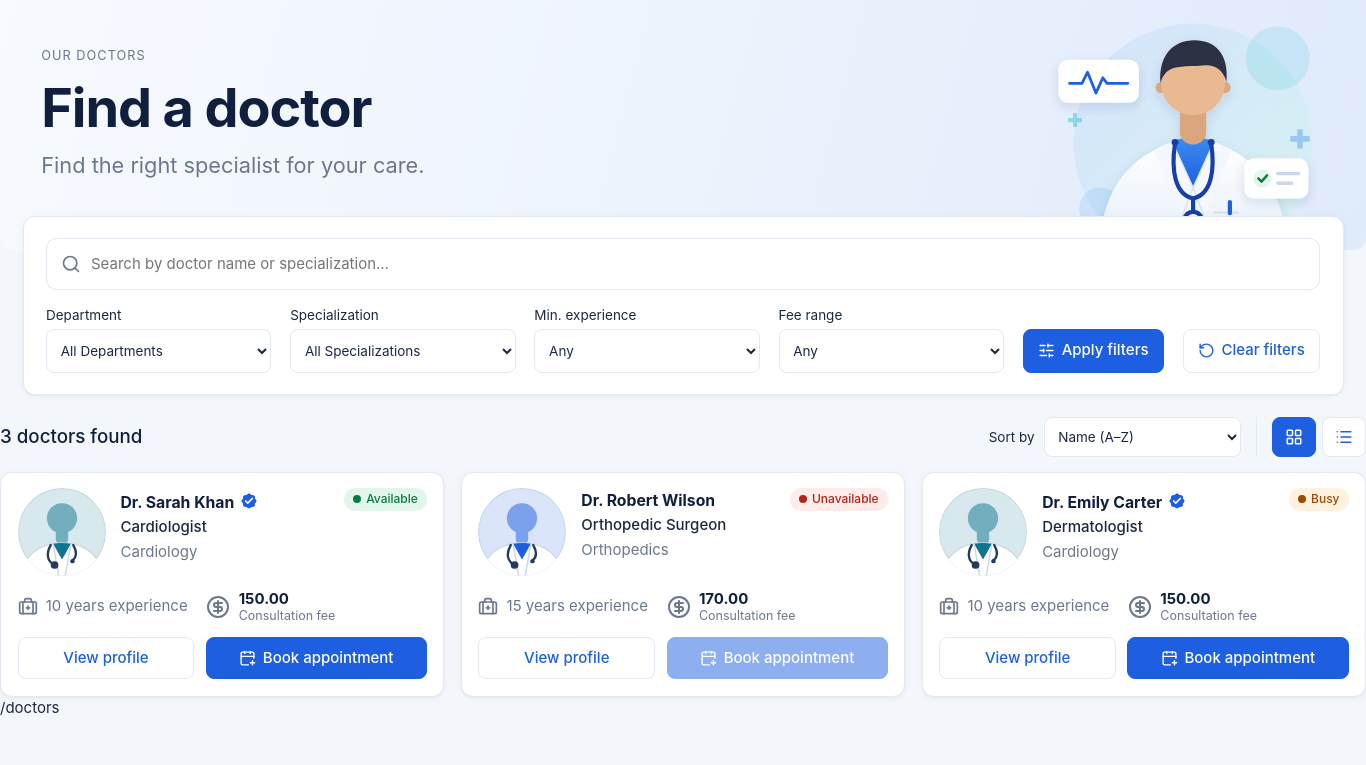
Test: grid and list view › switches layout without asking the API again
Step 1. Click the button named "List view" → (1344, 437), box [1322,417,1365,457]
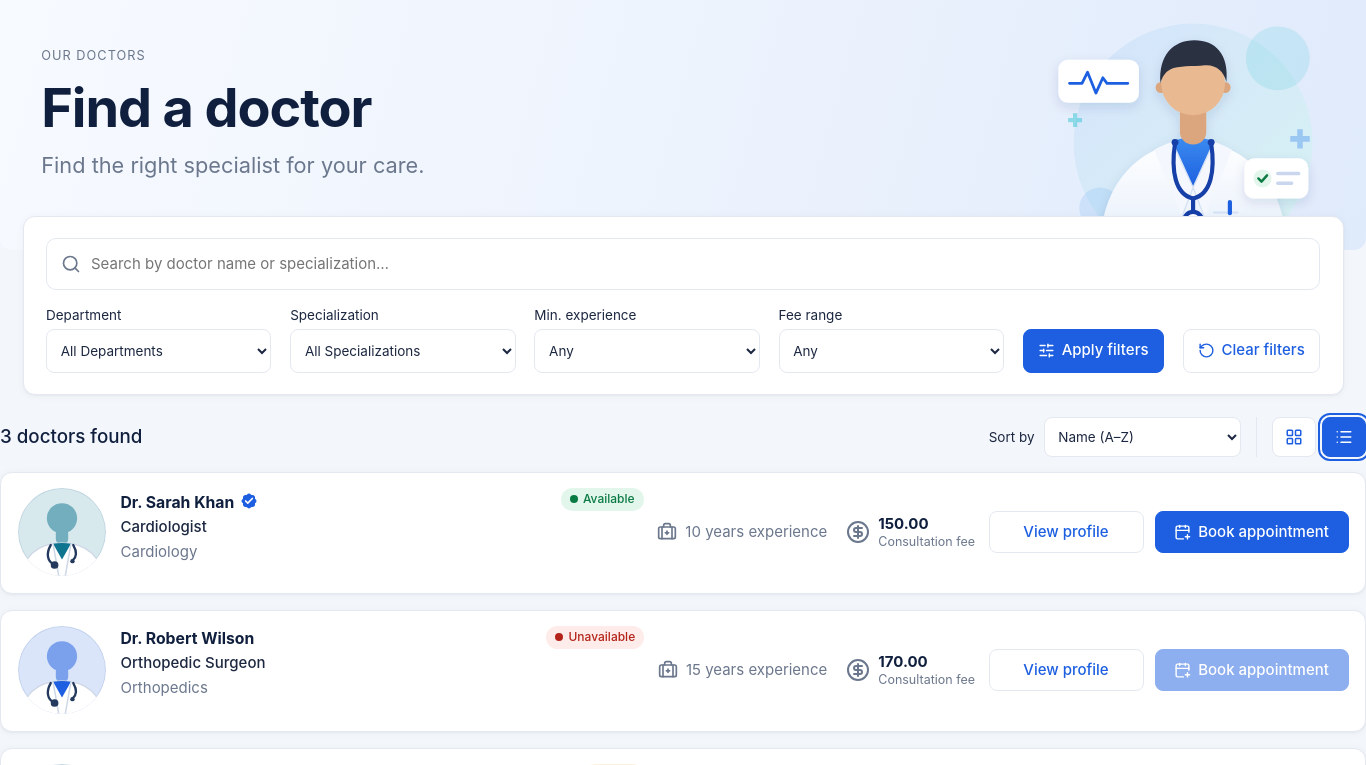
Now the button named "List view" is pressed, box [1322,417,1365,457]
Step 2. Click the button named "Grid view" → (1294, 437), box [1272,417,1316,457]
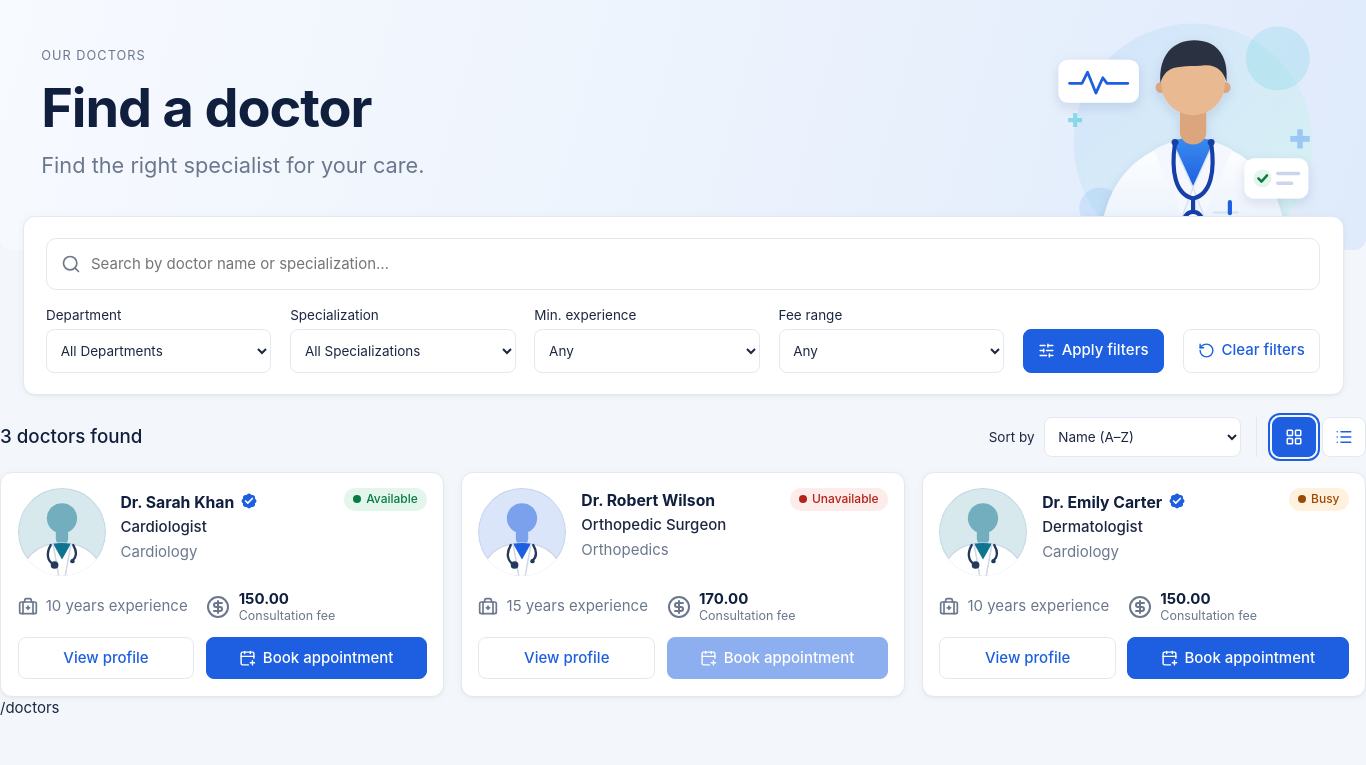
Now the text with test id "where" reads "/doctors", box [0,698,60,717]
